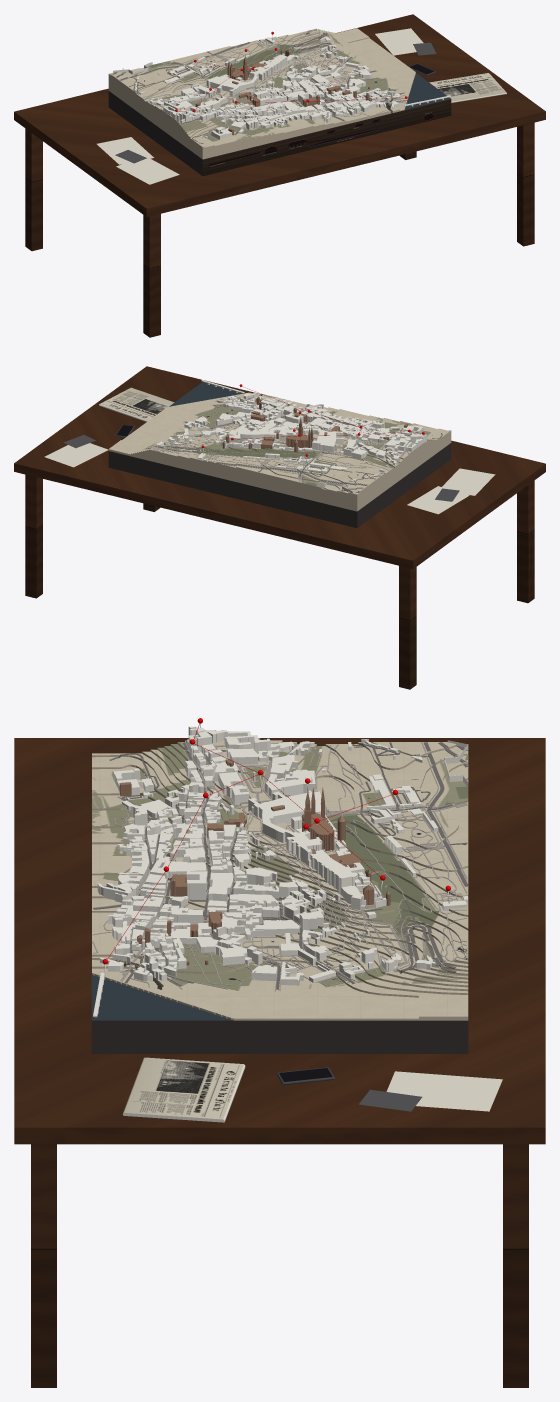
The model's file is maquete_praga.glb.
3 views of the same model, one above another, from view 1: azimuth 30°, elevation 25°; view 2: azimuth 150°, elevation 25°; view 3: azimuth 270°, elevation 25° (orthographic). The views are drawn at different scales.
Parts seen in each view (by area): view 1: mesa, etapa1_topografia, pedestal, etapa4_predios_d, etapa4_predios_a, papeis, etapa2_ruas_pedestres, etapa4_predios_c, etapa4_predios_b, jornal, etapa2_ruas_carro, etapa1_topografia_rio; view 2: mesa, etapa1_topografia, pedestal, etapa4_predios_a, etapa4_predios_d, papeis, etapa2_ruas_pedestres, etapa4_predios_c, jornal, etapa4_predios_b, etapa2_ruas_carro, etapa1_topografia_rio (+1 smaller); view 3: mesa, etapa1_topografia, etapa4_predios_a, pedestal, etapa4_predios_d, etapa4_predios_c, etapa2_ruas_pedestres, jornal, etapa4_predios_b, etapa2_ruas_carro, papeis, etapa1_topografia_rio (+2 smaller).
Boxes of the visible parts, x1,y1,x2,y2 form: mesa: [14, 14, 545, 337]; etapa1_topografia: [108, 28, 415, 159]; pedestal: [108, 80, 451, 175]; etapa4_predios_d: [113, 36, 398, 128]; etapa4_predios_a: [180, 54, 387, 139]; papeis: [97, 28, 436, 184]; etapa2_ruas_pedestres: [121, 28, 405, 140]; etapa4_predios_c: [167, 54, 399, 137]; etapa4_predios_b: [176, 57, 395, 135]; jornal: [429, 73, 506, 102]; etapa2_ruas_carro: [111, 32, 406, 143]; etapa1_topografia_rio: [405, 73, 450, 109]; mesa: [14, 366, 545, 689]; etapa1_topografia: [108, 392, 451, 511]; pedestal: [108, 401, 451, 527]; etapa4_predios_a: [219, 401, 423, 452]; etapa4_predios_d: [155, 393, 426, 493]; papeis: [44, 435, 495, 514]; etapa2_ruas_pedestres: [148, 394, 428, 492]; etapa4_predios_c: [207, 395, 419, 458]; jornal: [99, 387, 174, 421]; etapa4_predios_b: [219, 396, 419, 451]; etapa2_ruas_carro: [145, 395, 442, 492]; etapa1_topografia_rio: [169, 382, 247, 406]; mesa: [14, 738, 545, 1387]; etapa1_topografia: [92, 738, 468, 1020]; etapa4_predios_a: [113, 748, 370, 976]; pedestal: [91, 778, 468, 1053]; etapa4_predios_d: [97, 726, 467, 985]; etapa4_predios_c: [115, 731, 416, 981]; etapa2_ruas_pedestres: [92, 740, 467, 991]; jornal: [122, 1057, 245, 1122]; etapa4_predios_b: [129, 744, 375, 980]; etapa2_ruas_carro: [93, 742, 468, 989]; papeis: [359, 1071, 502, 1111]; etapa1_topografia_rio: [91, 975, 231, 1020].
Size of the model in its own units: 2.5 by 1.18 by 1.44.
Materials: 19 (4 with a texture image).
